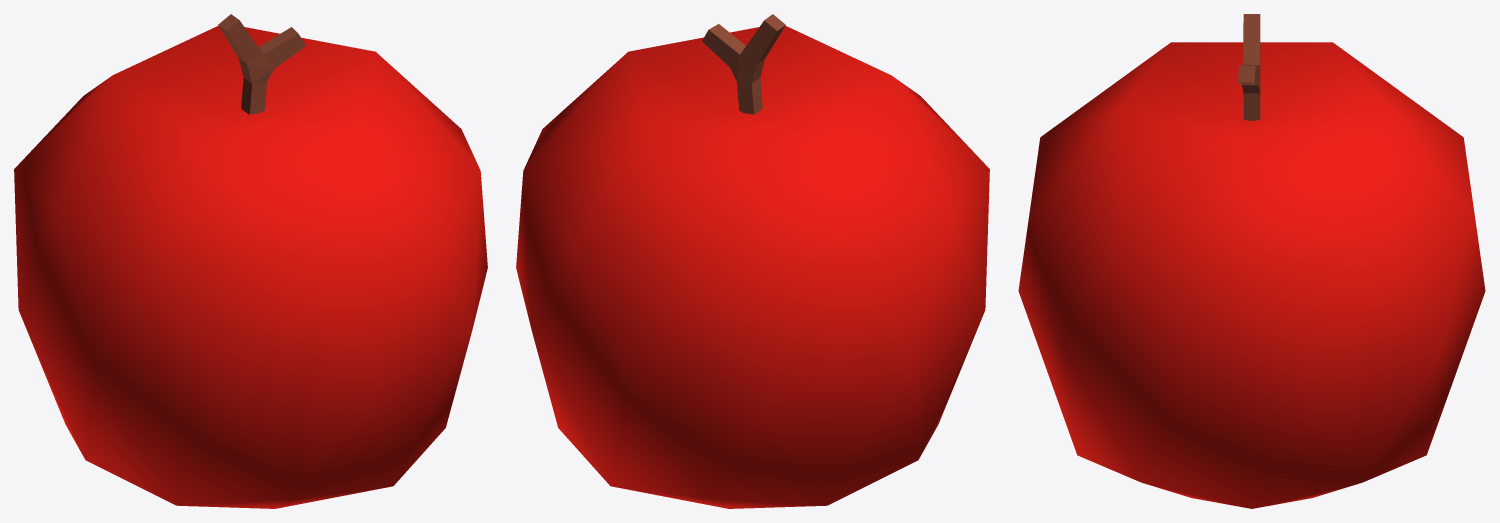
File: Apple.fbx
3 renders of one model, left to right at view 1: azimuth 30°, elevation 25°; view 2: azimuth 150°, elevation 25°; view 3: azimuth 270°, elevation 25°, orthographic. The views are drawn at different scales.
Parts seen in each view (by area): view 1: Icosphere; view 2: Icosphere; view 3: Icosphere.
Part boxes in pixels (x1,y1,x2,y2): Icosphere: [14, 14, 487, 508]; Icosphere: [516, 14, 989, 508]; Icosphere: [1018, 14, 1485, 508].
Size of the model in its own units: 0.4047 by 0.4307 by 0.4139.
1 material, 1 textured.
